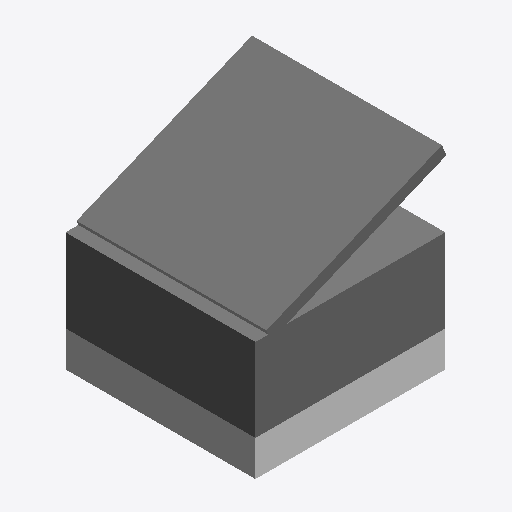
Isometric view (azimuth 45°, elevation 35.3°) of a Minecraft model made of 8 cuboids, textured from the same repository.
Parts seen in each view (by area): element 2, element 1, element 6, element 4, element 5.
Part boxes in pixels (x1,y1,x2,y2): element 2: (77,36,445,336); element 1: (66,225,290,437); element 6: (66,329,444,478); element 4: (290,233,409,416); element 5: (373,206,444,347).
Bounding box in the file's own units: 16.09 × 16.51 × 16.